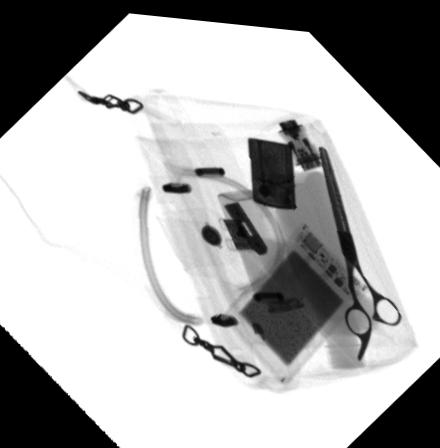Lighter: (248, 129, 297, 204)
Powerbank: (215, 212, 372, 388)
Scissors: (311, 134, 406, 356)
Sprayer: (217, 180, 314, 336)
